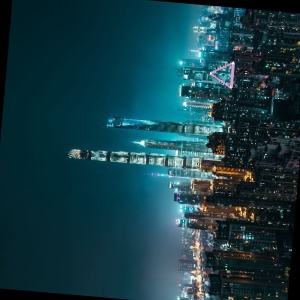triangle: (208, 59, 236, 90)
